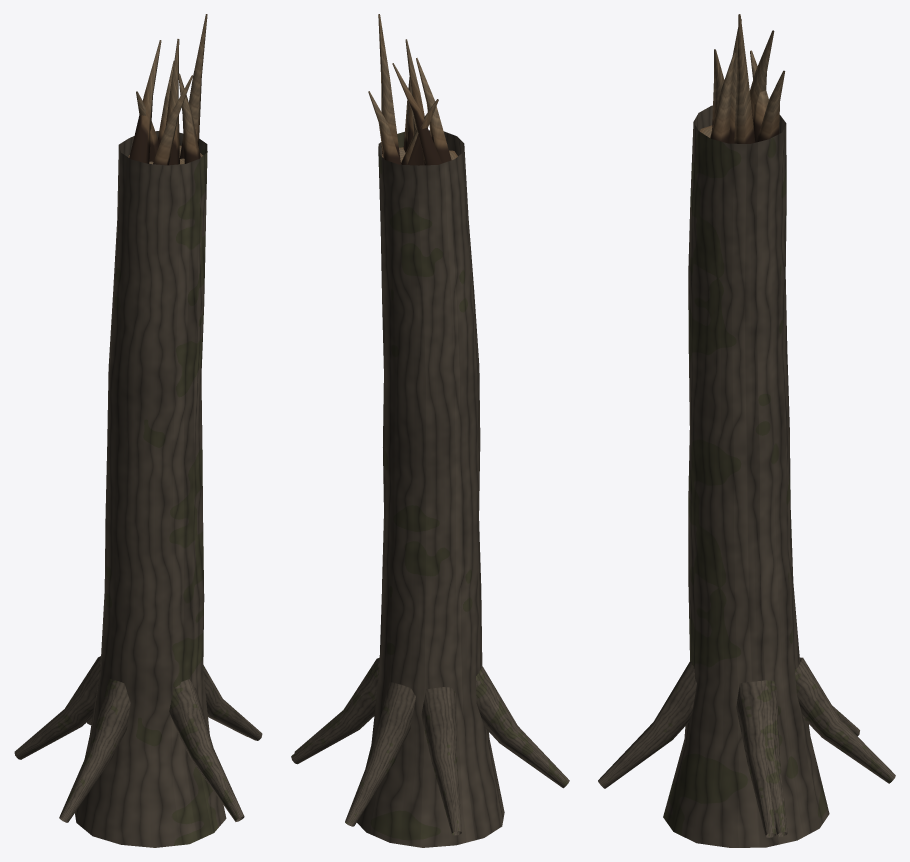
Rendered from S7U_Tree_Stump_A.fbx.
The picture shows the model from 3 angles, left to right: view 1: azimuth 30°, elevation 25°; view 2: azimuth 150°, elevation 25°; view 3: azimuth 270°, elevation 25°; orthographic projection. The views are drawn at different scales.
Visible parts, largest first — view 1: S7U_Tree_Stump_A; view 2: S7U_Tree_Stump_A; view 3: S7U_Tree_Stump_A.
Boxes of the visible parts, box(x1,y1,x2,y2) form: S7U_Tree_Stump_A: box(14, 14, 262, 847); S7U_Tree_Stump_A: box(291, 14, 569, 847); S7U_Tree_Stump_A: box(598, 14, 895, 847).
Bounding box in the file's own units: 1.07 × 3.39 × 1.1.
